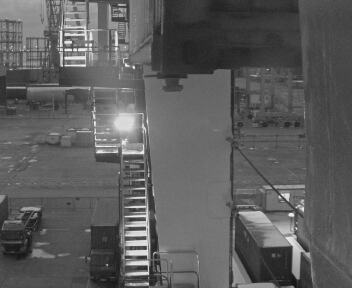twist_lock_1: (149, 66, 194, 99)
